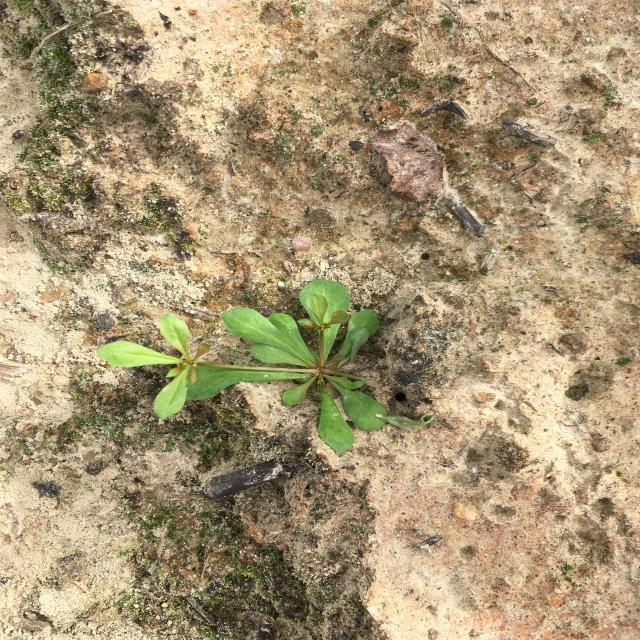Carpetweed: (96, 278, 388, 453)
